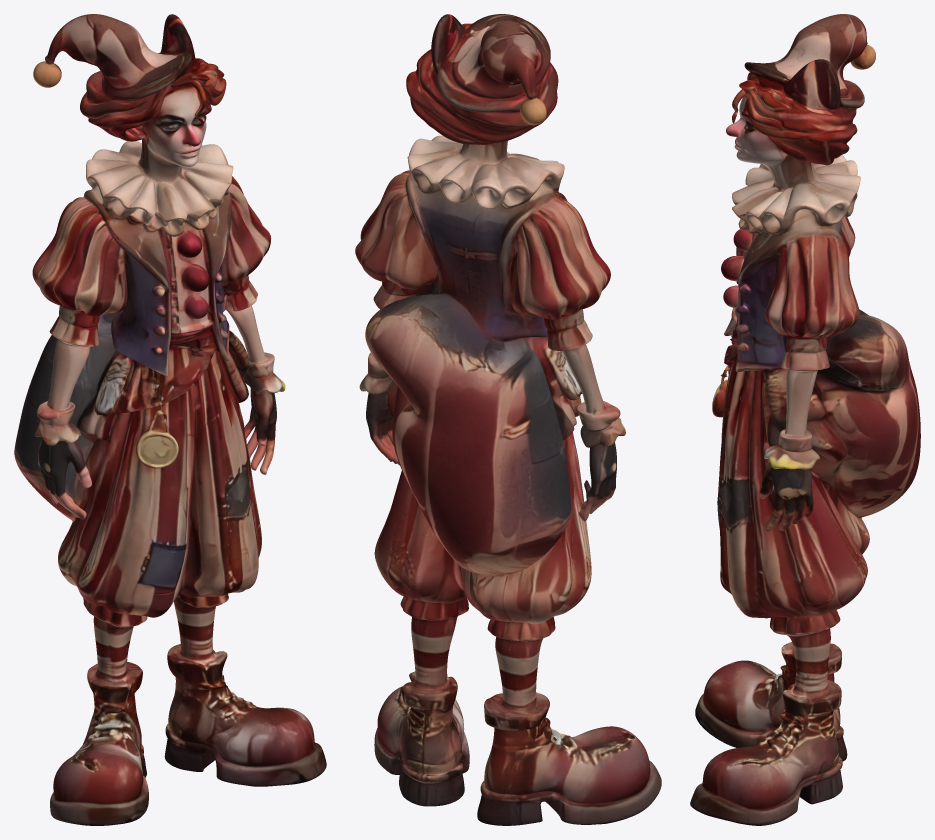
File: clown.glb
3 views of the same model, side by side, from view 1: azimuth 30°, elevation 25°; view 2: azimuth 150°, elevation 25°; view 3: azimuth 270°, elevation 25° (orthographic). The views are drawn at different scales.
Visible parts, largest first — view 1: model; view 2: model; view 3: model.
Boxes of the visible parts, x1,y1,x2,y2 form: model: (14,14,326,825); model: (355,14,661,825); model: (690,14,920,825).
Size of the model in its own units: 0.6839 by 1.9 by 0.5421.
Materials: 1 (1 with a texture image).
